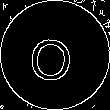O_N: (31, 27, 79, 83)
